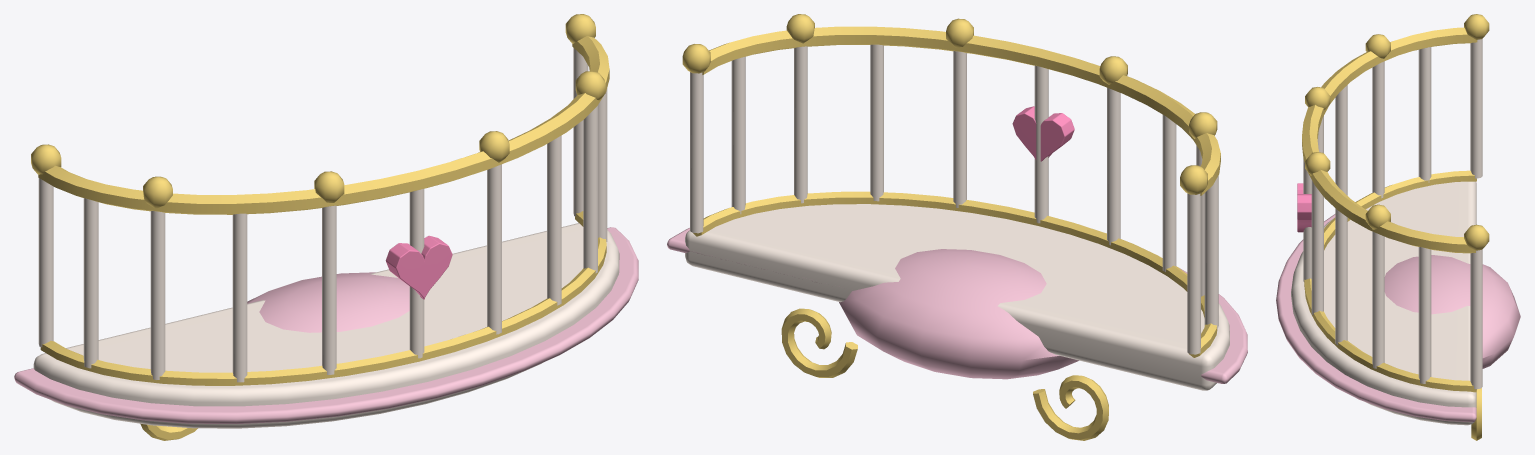
The model's file is balcony_curved.glb.
3 views of the same model, side by side, from view 1: azimuth 30°, elevation 25°; view 2: azimuth 150°, elevation 25°; view 3: azimuth 270°, elevation 25° (orthographic). The views are drawn at different scales.
Parts seen in each view (by area): view 1: balcony_curved; view 2: balcony_curved; view 3: balcony_curved.
Part boxes in pixels (<box>): balcony_curved: <box>14,14,638,440</box>; balcony_curved: <box>667,14,1247,440</box>; balcony_curved: <box>1276,14,1520,440</box>.
Size of the model in its own units: 3.17 by 1.64 by 1.38.
